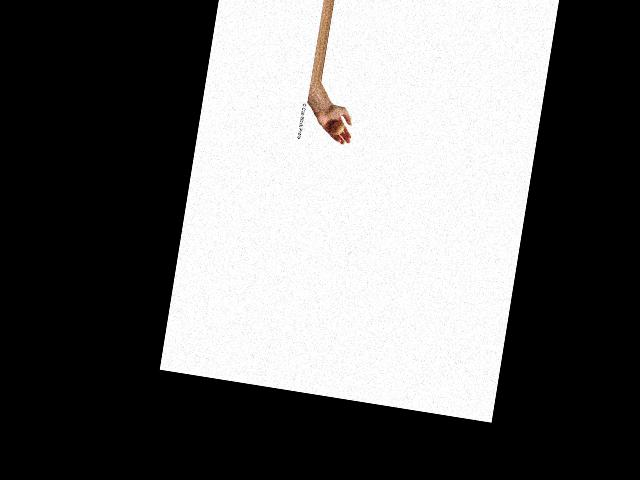egg: (329, 121, 344, 136)
